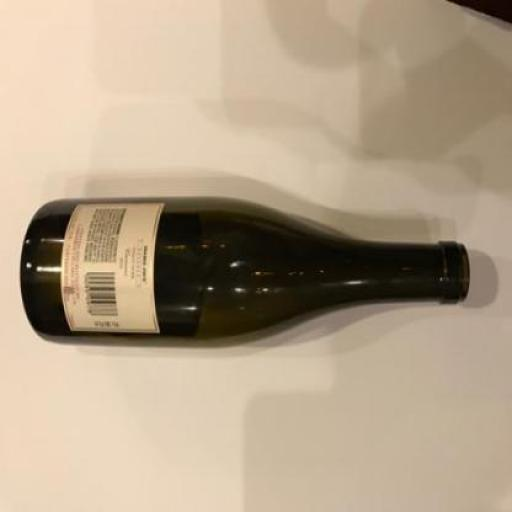glass: (18, 197, 469, 349)
